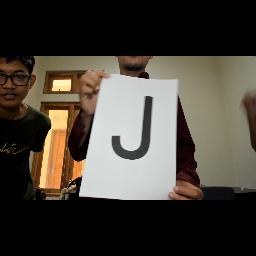j: (110, 92, 156, 162)
